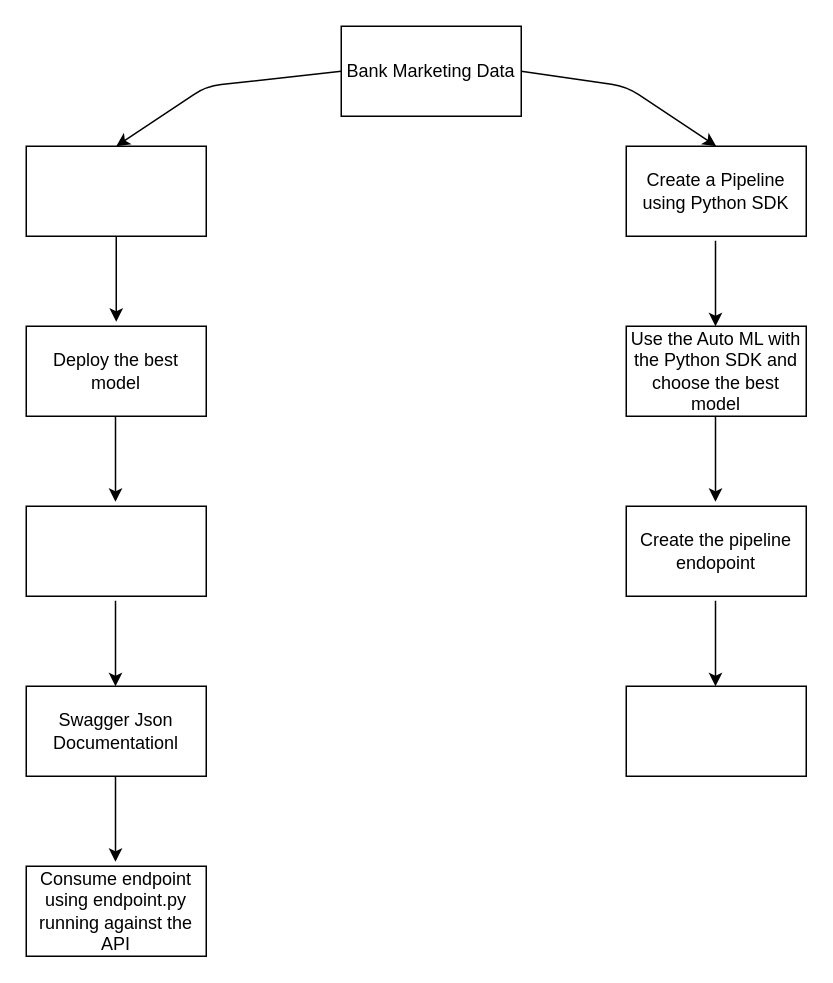
Some shapes in this 833 by 983 pixel diagram are drawn without their labels. Here are the shapes that lost their labels. From the top down, the centre of each, then its label:
At point 115,190: "Auto ML Classification model using the designer".
At point 115,550: "Enable Application Insights".
At point 715,730: "Consume the pipeline".
